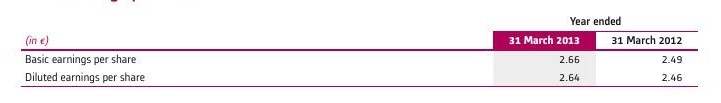table: (0, 0, 721, 103)
